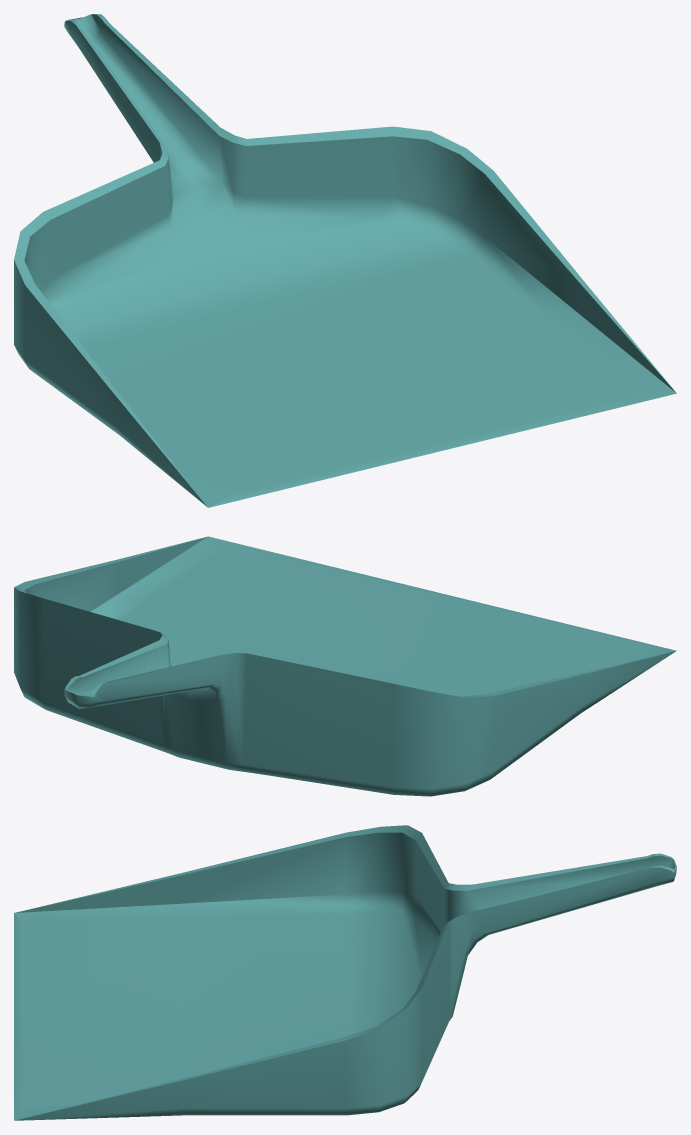
The model's file is Pala.fbx.
3 views of the same model, one above another, from view 1: azimuth 30°, elevation 25°; view 2: azimuth 150°, elevation 25°; view 3: azimuth 270°, elevation 25° (orthographic). The views are drawn at different scales.
Visible parts, largest first — view 1: Pala; view 2: Pala; view 3: Pala.
Boxes of the visible parts, left/top/right/bottom form: Pala: left=14, top=14, right=676, bottom=507; Pala: left=14, top=536, right=676, bottom=796; Pala: left=14, top=825, right=676, bottom=1120.
Bounding box in the file's own units: 0.1999 × 0.0703 × 0.2696.
